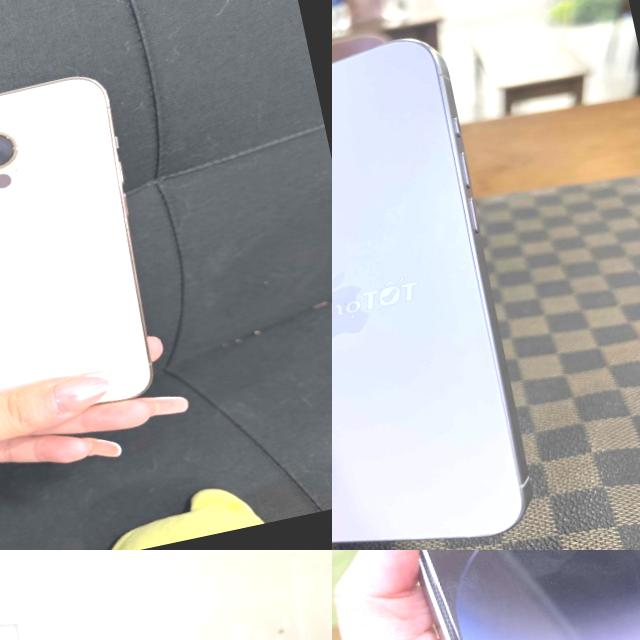gen_14: (0, 67, 176, 465), (332, 550, 640, 640)
gen_15: (332, 30, 555, 550)
